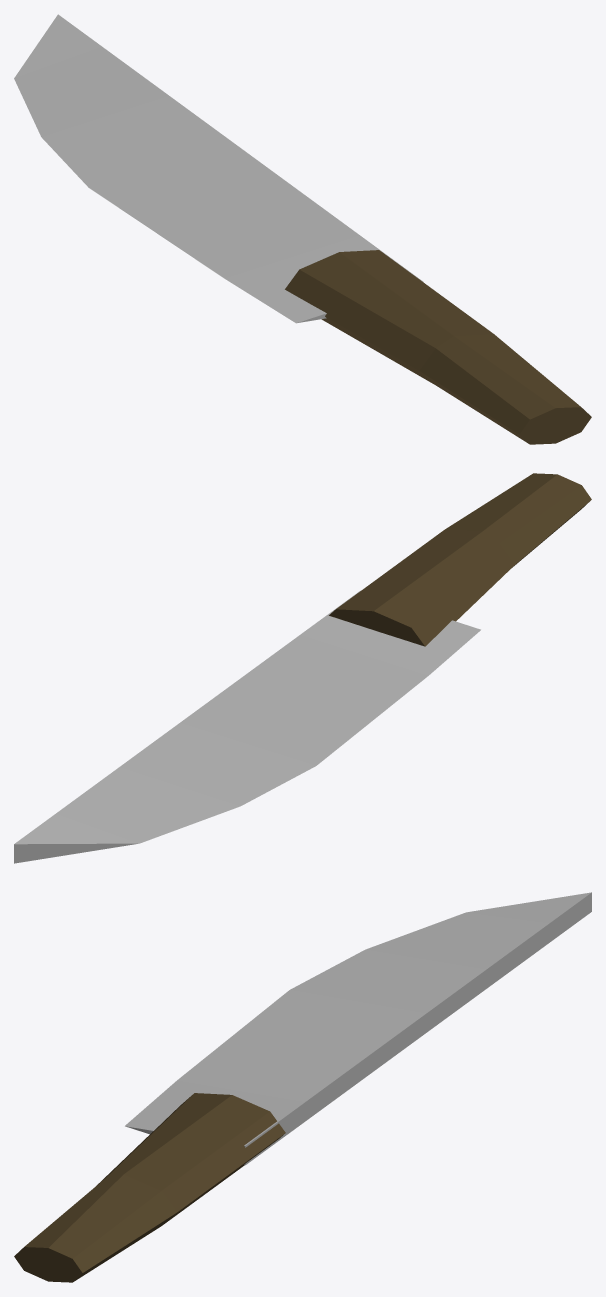
Rendered from fantasy_knife.fbx.
3 views of the same model, one above another, from view 1: azimuth 30°, elevation 25°; view 2: azimuth 150°, elevation 25°; view 3: azimuth 330°, elevation 25° (orthographic). The views are drawn at different scales.
Parts seen in each view (by area): view 1: Cube.246; view 2: Cube.246; view 3: Cube.246.
Boxes of the visible parts, box(x1,y1,x2,y2) form: Cube.246: box(14, 14, 591, 444); Cube.246: box(14, 473, 591, 863); Cube.246: box(14, 892, 591, 1282).
Size of the model in its own units: 5.51 by 1.82 by 33.69.
